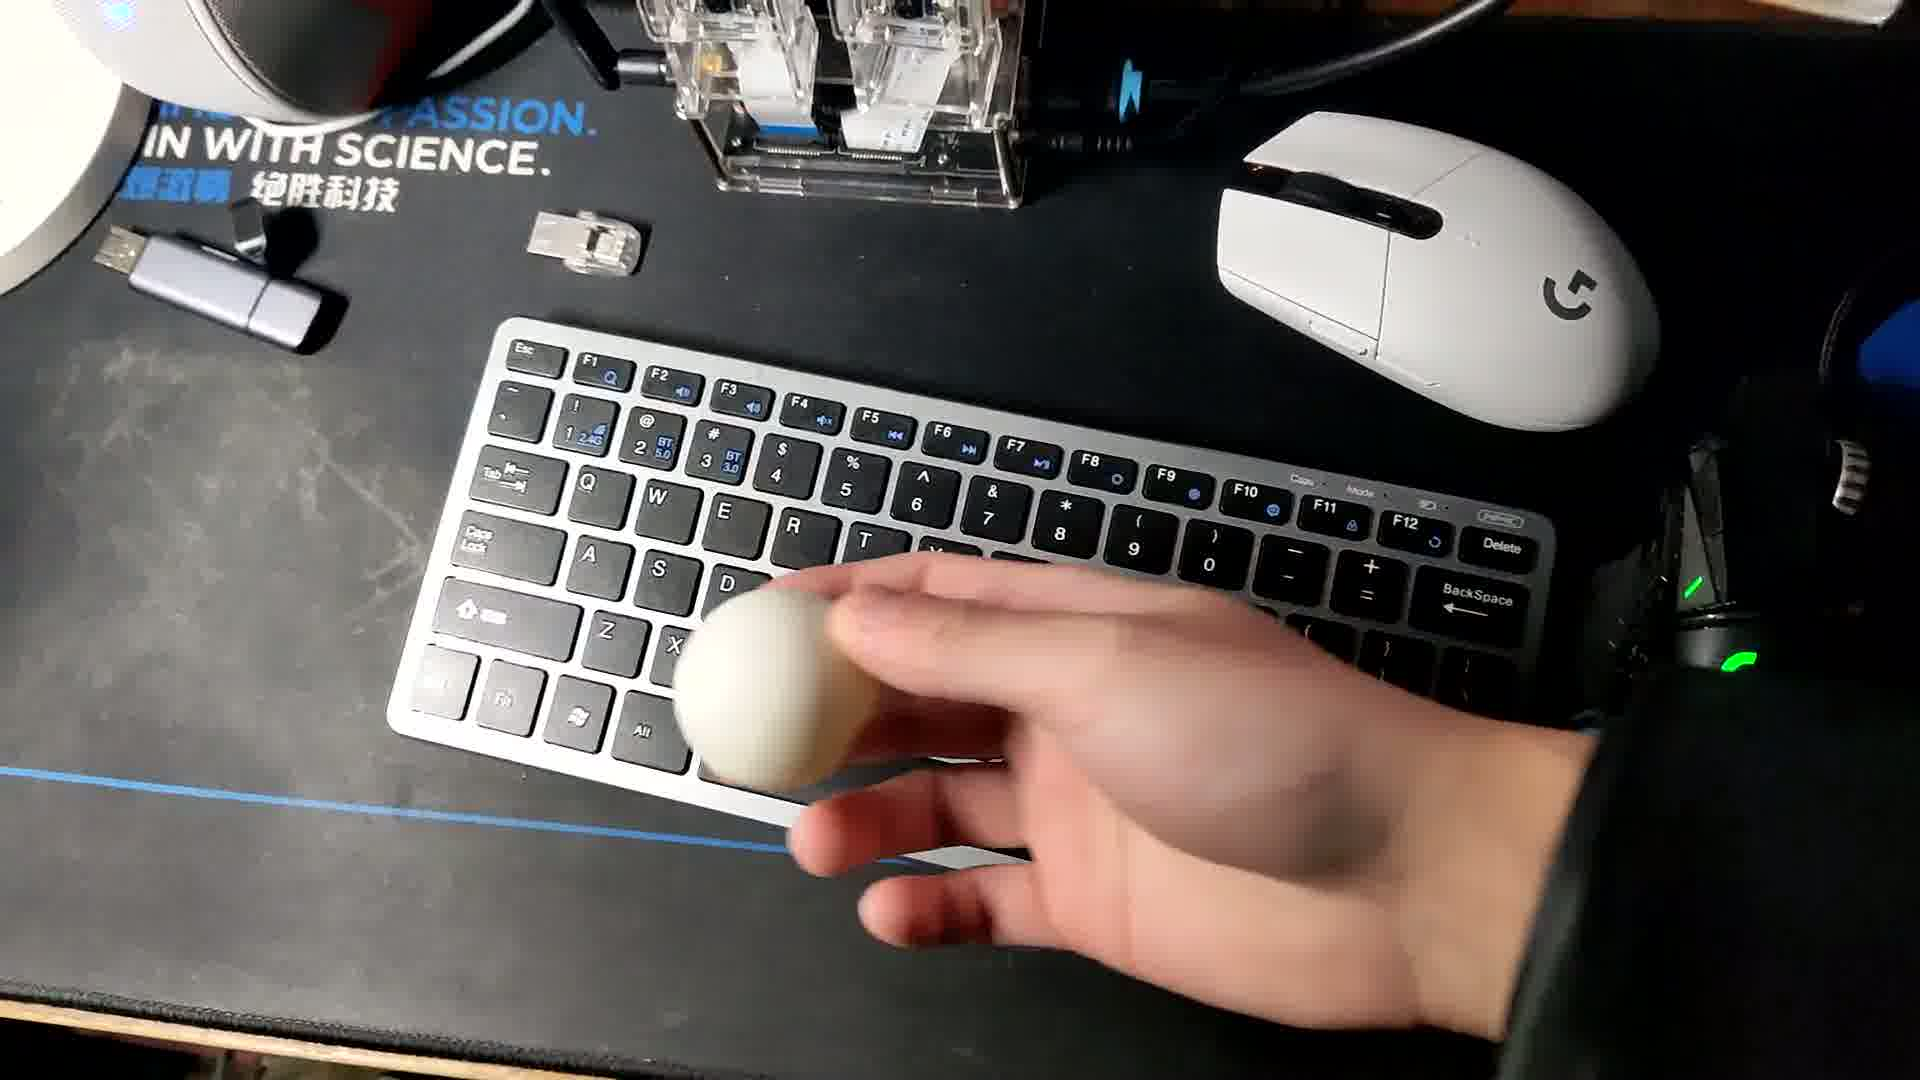Ball: (673, 582, 866, 789)
